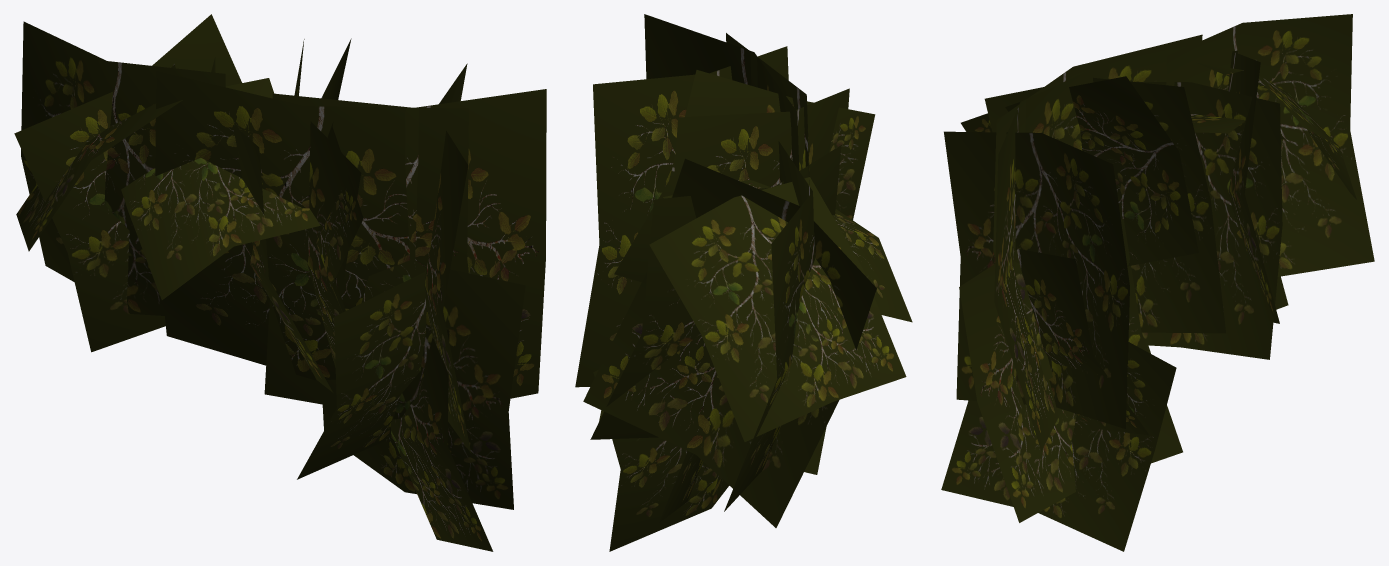
File: rock_plants_001.obj
The picture shows the model from 3 angles, left to right: view 1: azimuth 30°, elevation 25°; view 2: azimuth 150°, elevation 25°; view 3: azimuth 270°, elevation 25°; orthographic projection. The views are drawn at different scales.
Visible parts, largest first — view 1: rock_plants_001; view 2: rock_plants_001; view 3: rock_plants_001.
Boxes of the visible parts, bbox=[...] form: rock_plants_001: bbox=[14, 14, 546, 551]; rock_plants_001: bbox=[575, 14, 912, 551]; rock_plants_001: bbox=[941, 14, 1374, 551].
Bounding box in the file's own units: 417 × 488 × 437.
Materials: 1 (1 with a texture image).
